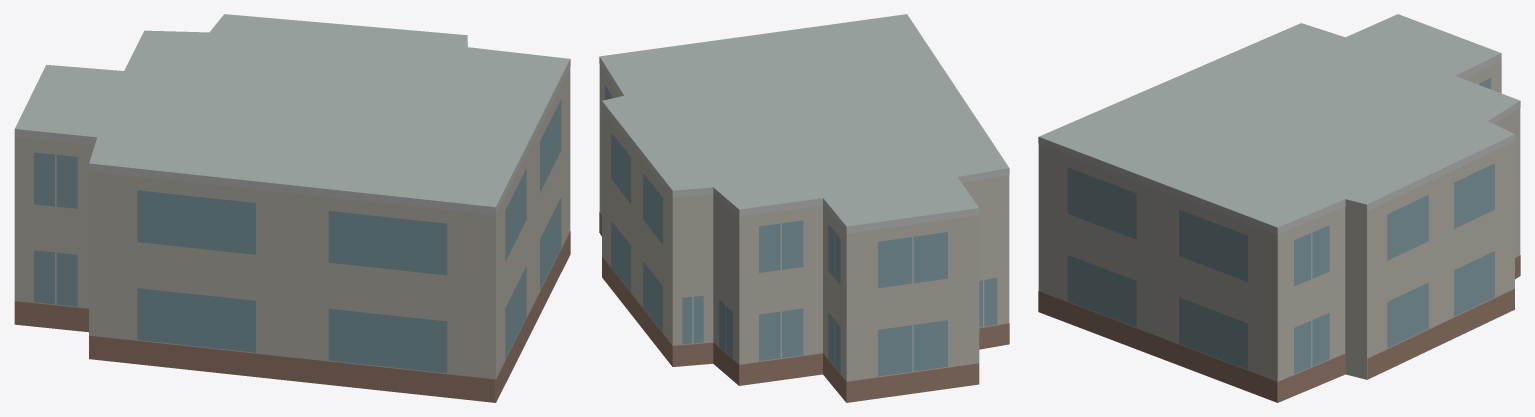
The model's file is survey-upis-32606335.glb.
3 renders of one model, left to right at view 1: azimuth 30°, elevation 25°; view 2: azimuth 150°, elevation 25°; view 3: azimuth 270°, elevation 25°, orthographic. The views are drawn at different scales.
Visible parts, largest first — view 1: survey-upis-32606335.tmp; view 2: survey-upis-32606335.tmp; view 3: survey-upis-32606335.tmp.
Boxes of the visible parts, x1,y1,x2,y2 form: survey-upis-32606335.tmp: [14, 14, 570, 402]; survey-upis-32606335.tmp: [599, 14, 1009, 402]; survey-upis-32606335.tmp: [1038, 14, 1520, 402].
Size of the model in its own units: 15.95 by 6.1 by 15.2.
